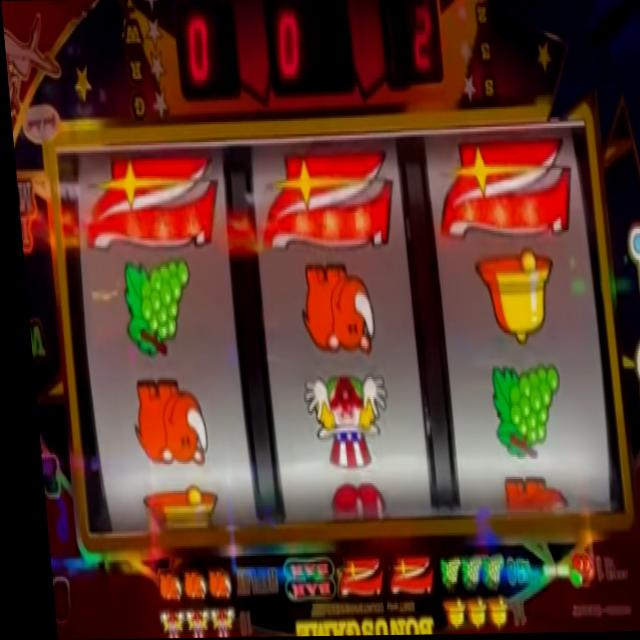bar: (273, 557, 326, 604)
bell: (468, 252, 553, 345), (131, 487, 211, 532), (431, 595, 453, 630), (453, 598, 475, 630), (476, 596, 496, 630)
cherry: (319, 487, 378, 523), (557, 556, 586, 590)
clown: (295, 372, 383, 471), (198, 606, 225, 638), (173, 608, 197, 638), (148, 610, 173, 638)
display: (53, 146, 615, 536)
elephant: (122, 378, 200, 470), (292, 266, 371, 355), (491, 478, 560, 514), (195, 568, 221, 600), (172, 570, 194, 602), (146, 573, 170, 601)
grape: (483, 363, 560, 462), (114, 259, 189, 356), (472, 551, 495, 593), (450, 554, 473, 592), (429, 553, 451, 592)
z: (431, 136, 569, 242), (258, 152, 391, 251), (77, 155, 217, 246), (325, 554, 372, 598), (378, 552, 423, 597)
